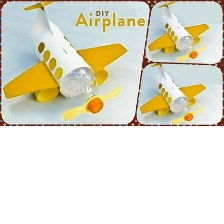bottle: (55, 59, 108, 116), (167, 91, 200, 123), (173, 33, 201, 62)
